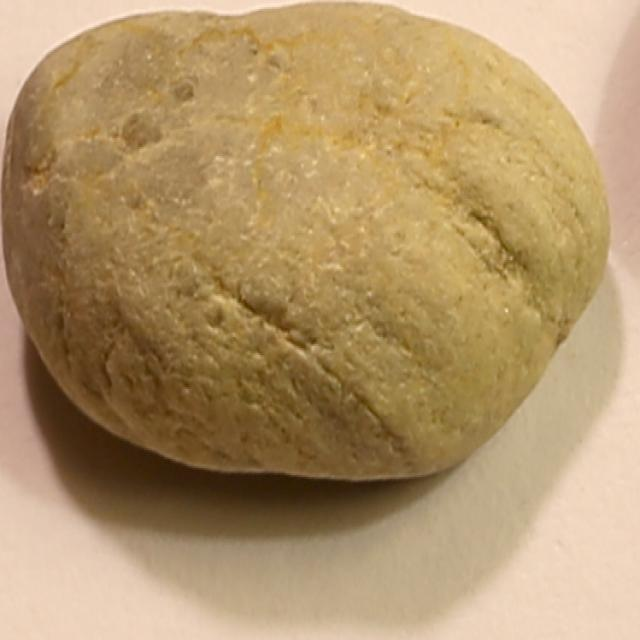stone: (4, 0, 618, 489)
